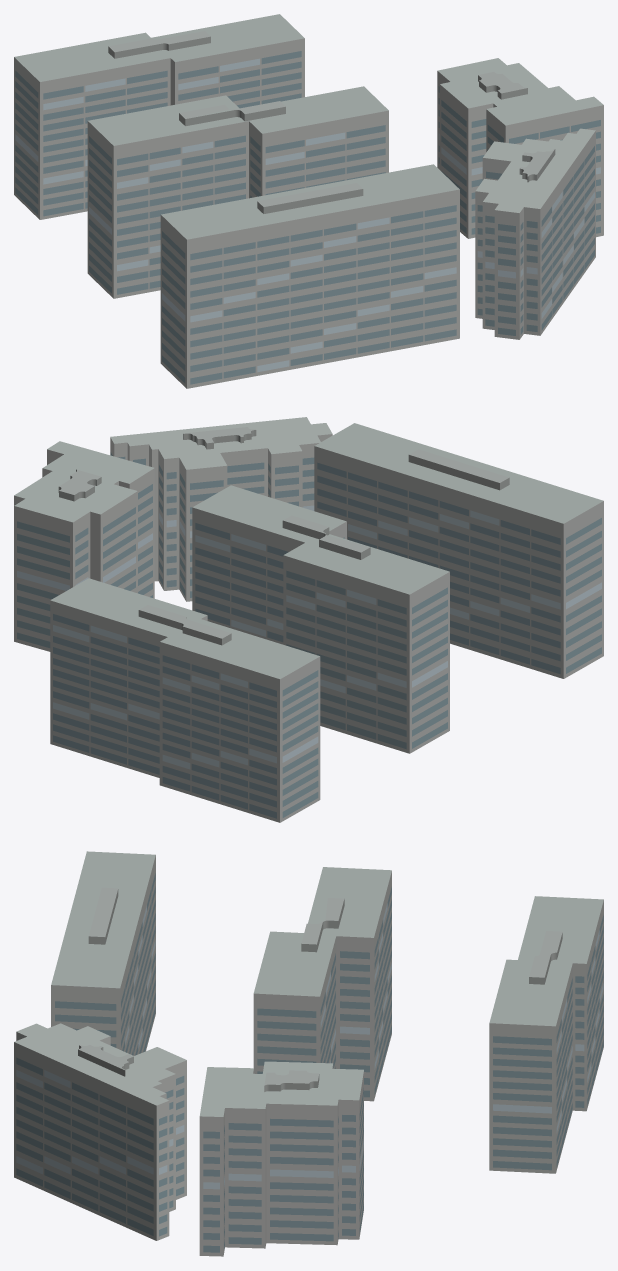
File: apt-a10027016.glb
3 views of the same model, one above another, from view 1: azimuth 30°, elevation 25°; view 2: azimuth 150°, elevation 25°; view 3: azimuth 270°, elevation 25° (orthographic). The views are drawn at different scales.
Visible parts, largest first — view 1: apt-a10027016; view 2: apt-a10027016; view 3: apt-a10027016.
Boxes of the visible parts, box(x1,y1,x2,y2) form: apt-a10027016: box(14, 14, 603, 388); apt-a10027016: box(14, 417, 603, 822); apt-a10027016: box(14, 851, 603, 1256).
Size of the model in its own units: 126 by 41 by 128.
